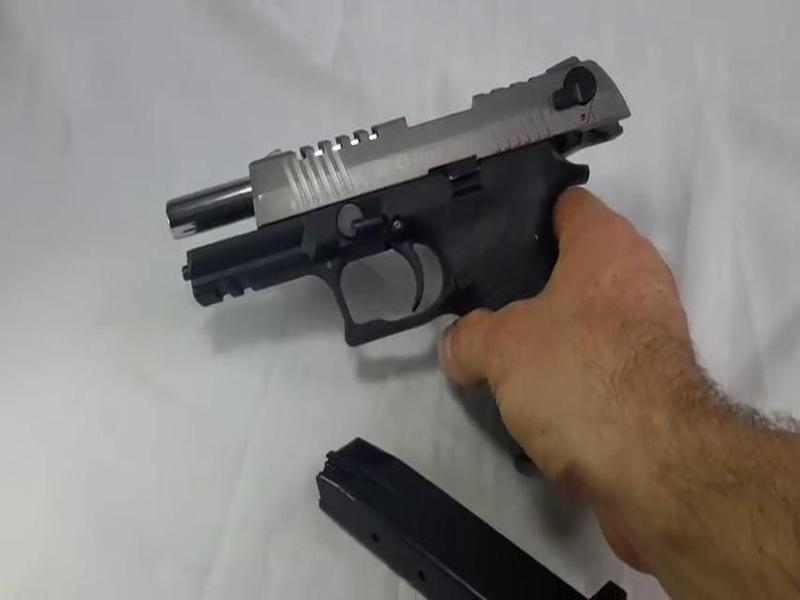Pistola: (153, 50, 635, 457)
